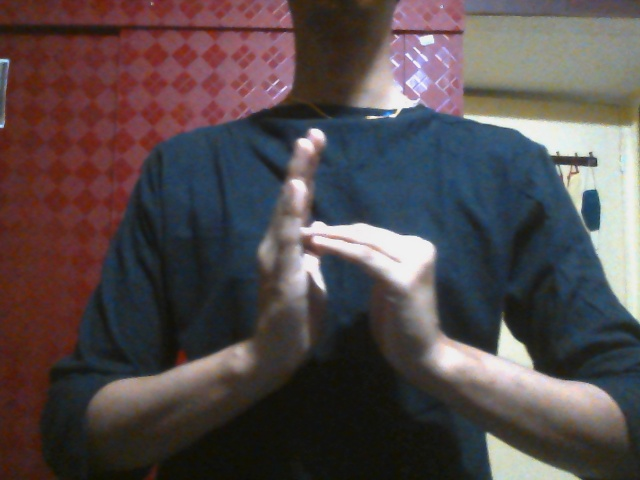Z: (230, 127, 453, 390)
